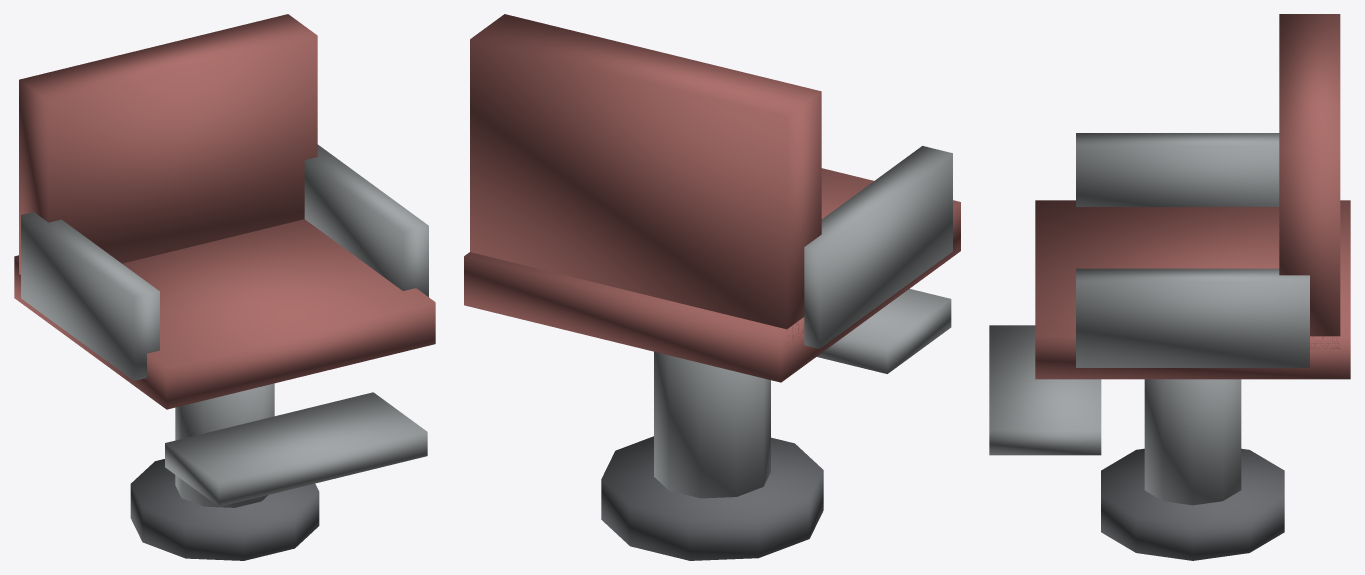
The model's file is barber_chair__squat.glb.
3 views of the same model, side by side, from view 1: azimuth 30°, elevation 25°; view 2: azimuth 150°, elevation 25°; view 3: azimuth 270°, elevation 25° (orthographic). The views are drawn at different scales.
Parts seen in each view (by area): view 1: world; view 2: world; view 3: world.
Part boxes in pixels (x1,y1,x2,y2): world: [14, 14, 435, 560]; world: [464, 14, 960, 560]; world: [989, 14, 1350, 560].
Bounding box in the file's own units: 0.748 × 1.02 × 0.7668.
